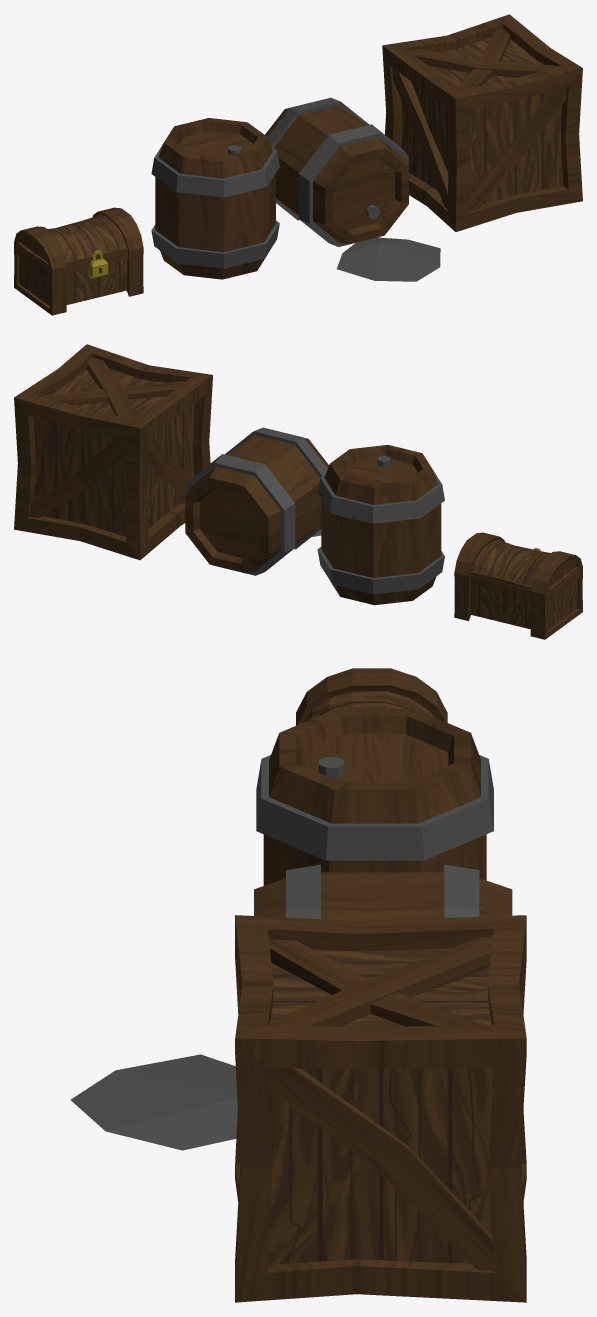
File: storage.fbx
3 renders of one model, top to bottom at view 1: azimuth 30°, elevation 25°; view 2: azimuth 150°, elevation 25°; view 3: azimuth 270°, elevation 25°, orthographic. The views are drawn at different scales.
Visible parts, largest first — view 1: box, barrel_2, barrel_1, chest, chest.001; view 2: box, barrel_1, barrel_2, chest, chest.001; view 3: box, barrel_1, barrel_2, chest.
Part boxes in pixels (box(x1,y1,x2,y2)): box: box(382, 14, 582, 231); barrel_2: box(265, 97, 440, 281); barrel_1: box(151, 118, 279, 279); chest: box(14, 207, 143, 315); chest.001: box(17, 246, 128, 276); box: box(14, 344, 212, 560); barrel_1: box(317, 445, 444, 605); barrel_2: box(185, 427, 328, 575); chest: box(454, 532, 582, 639); chest.001: box(470, 570, 579, 601); box: box(235, 915, 526, 1302); barrel_1: box(256, 709, 493, 885); barrel_2: box(70, 864, 512, 1150); chest: box(296, 668, 447, 725).
Size of the model in its own units: 444 by 110 by 171.
